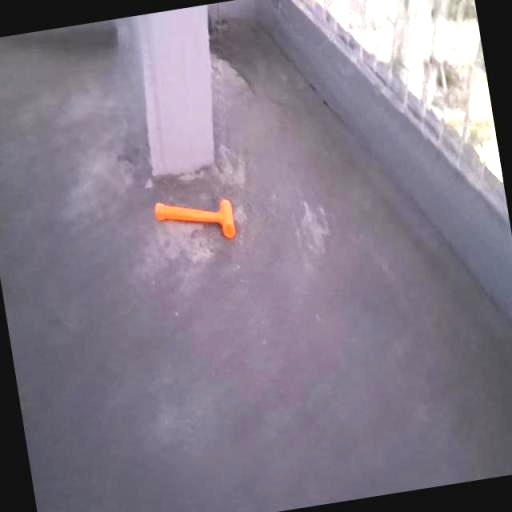mallet: (154, 190, 236, 248)
